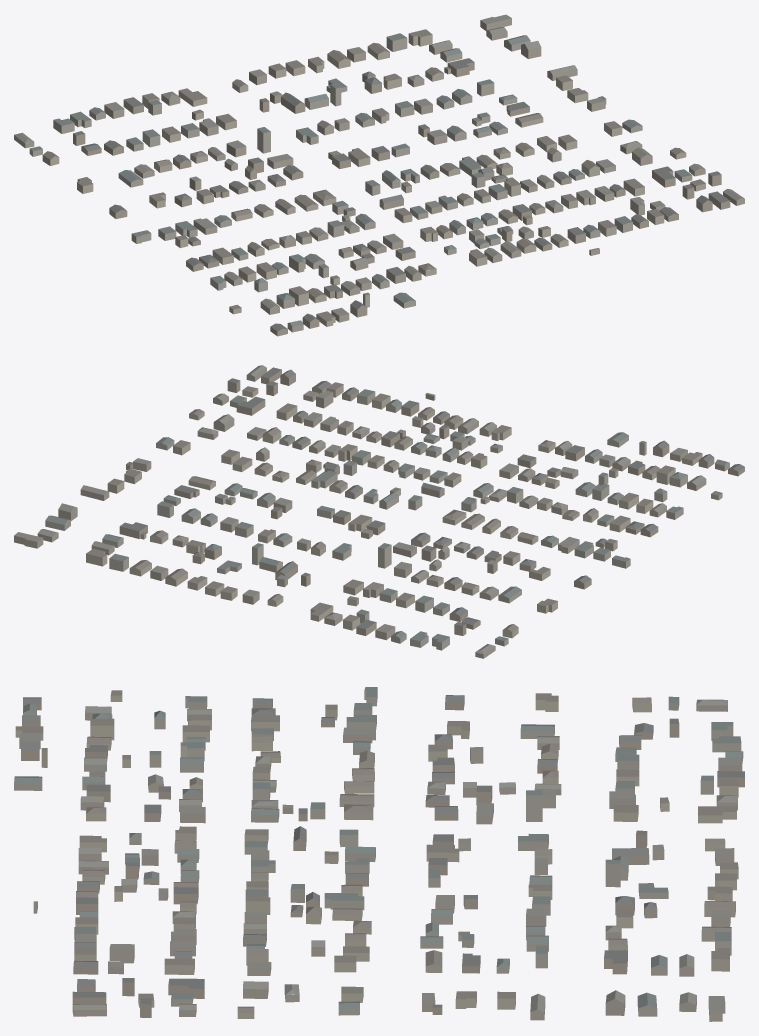
Rendered from 15a5314d1faa-chunk-1200_11839.glb.
3 views of the same model, one above another, from view 1: azimuth 30°, elevation 25°; view 2: azimuth 150°, elevation 25°; view 3: azimuth 270°, elevation 25° (orthographic). The views are drawn at different scales.
Visible parts, largest first — view 1: no part large enough to name; view 2: no part large enough to name; view 3: building_93732, building_160529, building_99685.
Boxes of the visible parts, x1,y1,x2,y2 form: building_93732: (698,806,736,823); building_160529: (168,978,204,998); building_99685: (324,893,364,909).
Bounding box in the file's own units: 391 × 15.05 × 371.
